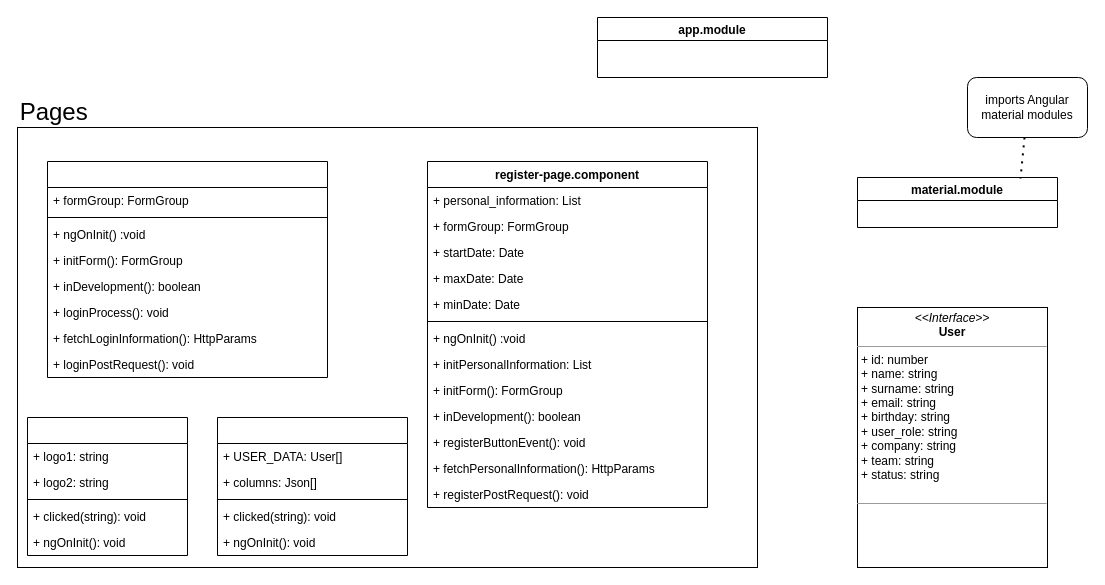
Some shapes in this 1105 by 585 pixel diagram are drawn without their labels. Each missing label, with the box of its shape:
DI-Overview.component: (216, 416, 408, 556)
home.component: (26, 416, 188, 556)
login-page.component: (46, 160, 328, 378)
